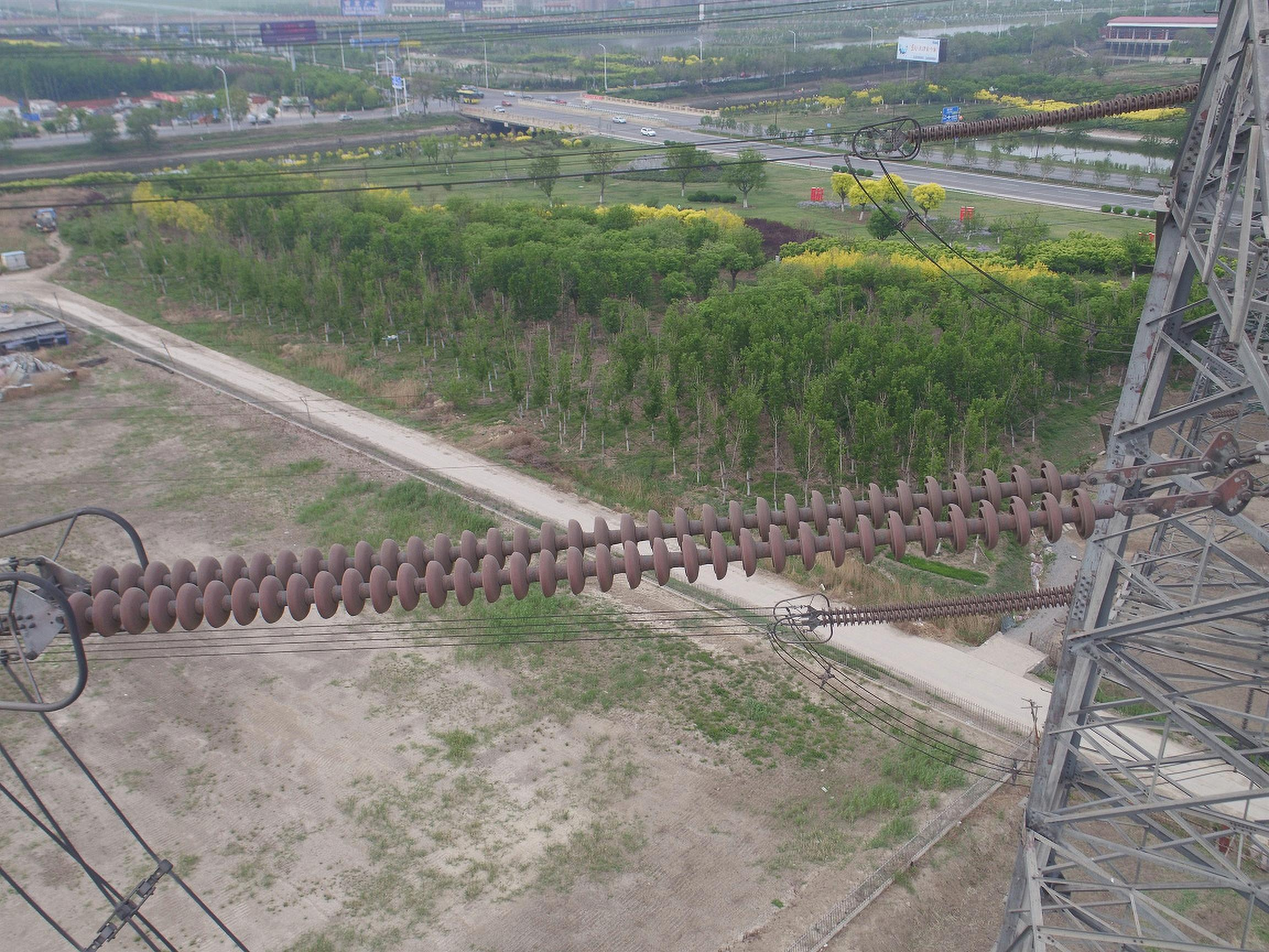insulator: (56, 456, 1100, 645), (905, 81, 1201, 147), (820, 582, 1075, 630)
